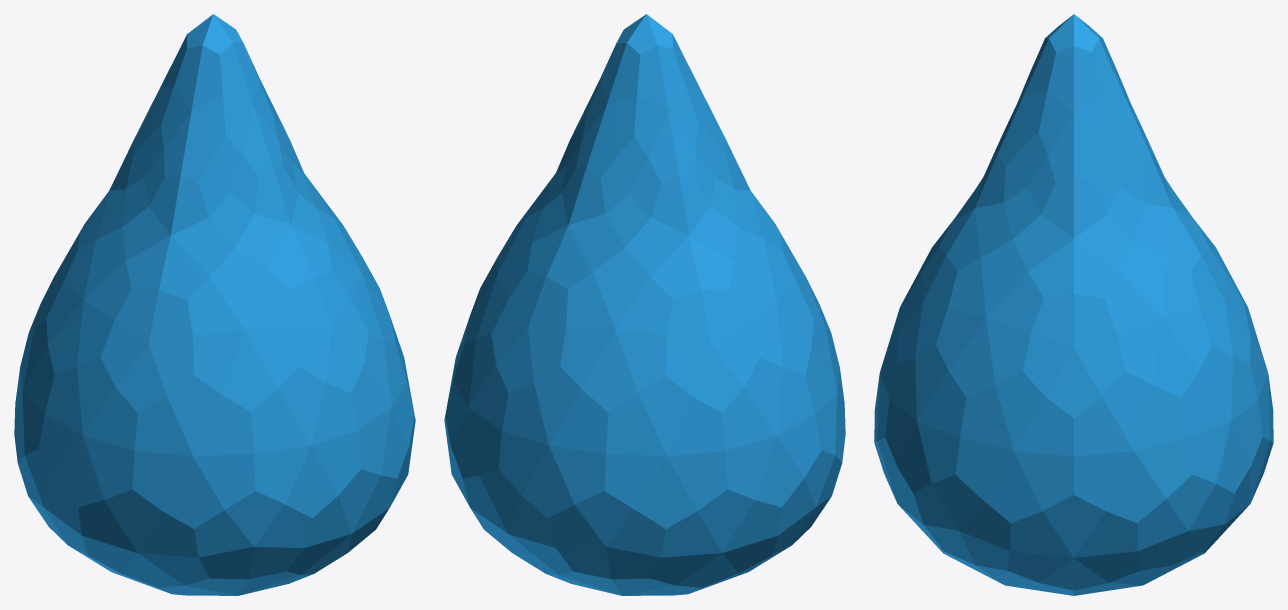
The model's file is waterDrop.fbx.
3 renders of one model, left to right at view 1: azimuth 30°, elevation 25°; view 2: azimuth 150°, elevation 25°; view 3: azimuth 270°, elevation 25°, orthographic.
Parts seen in each view (by area): view 1: Icosphere; view 2: Icosphere; view 3: Icosphere.
Part boxes in pixels (x1=…): Icosphere: x1=14, y1=14, x2=415, y2=595; Icosphere: x1=444, y1=14, x2=845, y2=595; Icosphere: x1=874, y1=14, x2=1273, y2=595.
Bounding box in the file's own units: 166 × 257 × 165.
